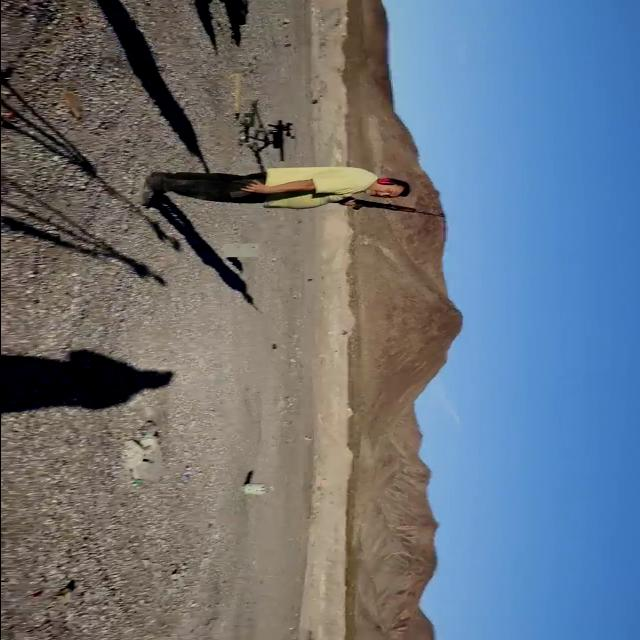long weapon: (324, 196, 458, 228), (245, 118, 305, 162)
